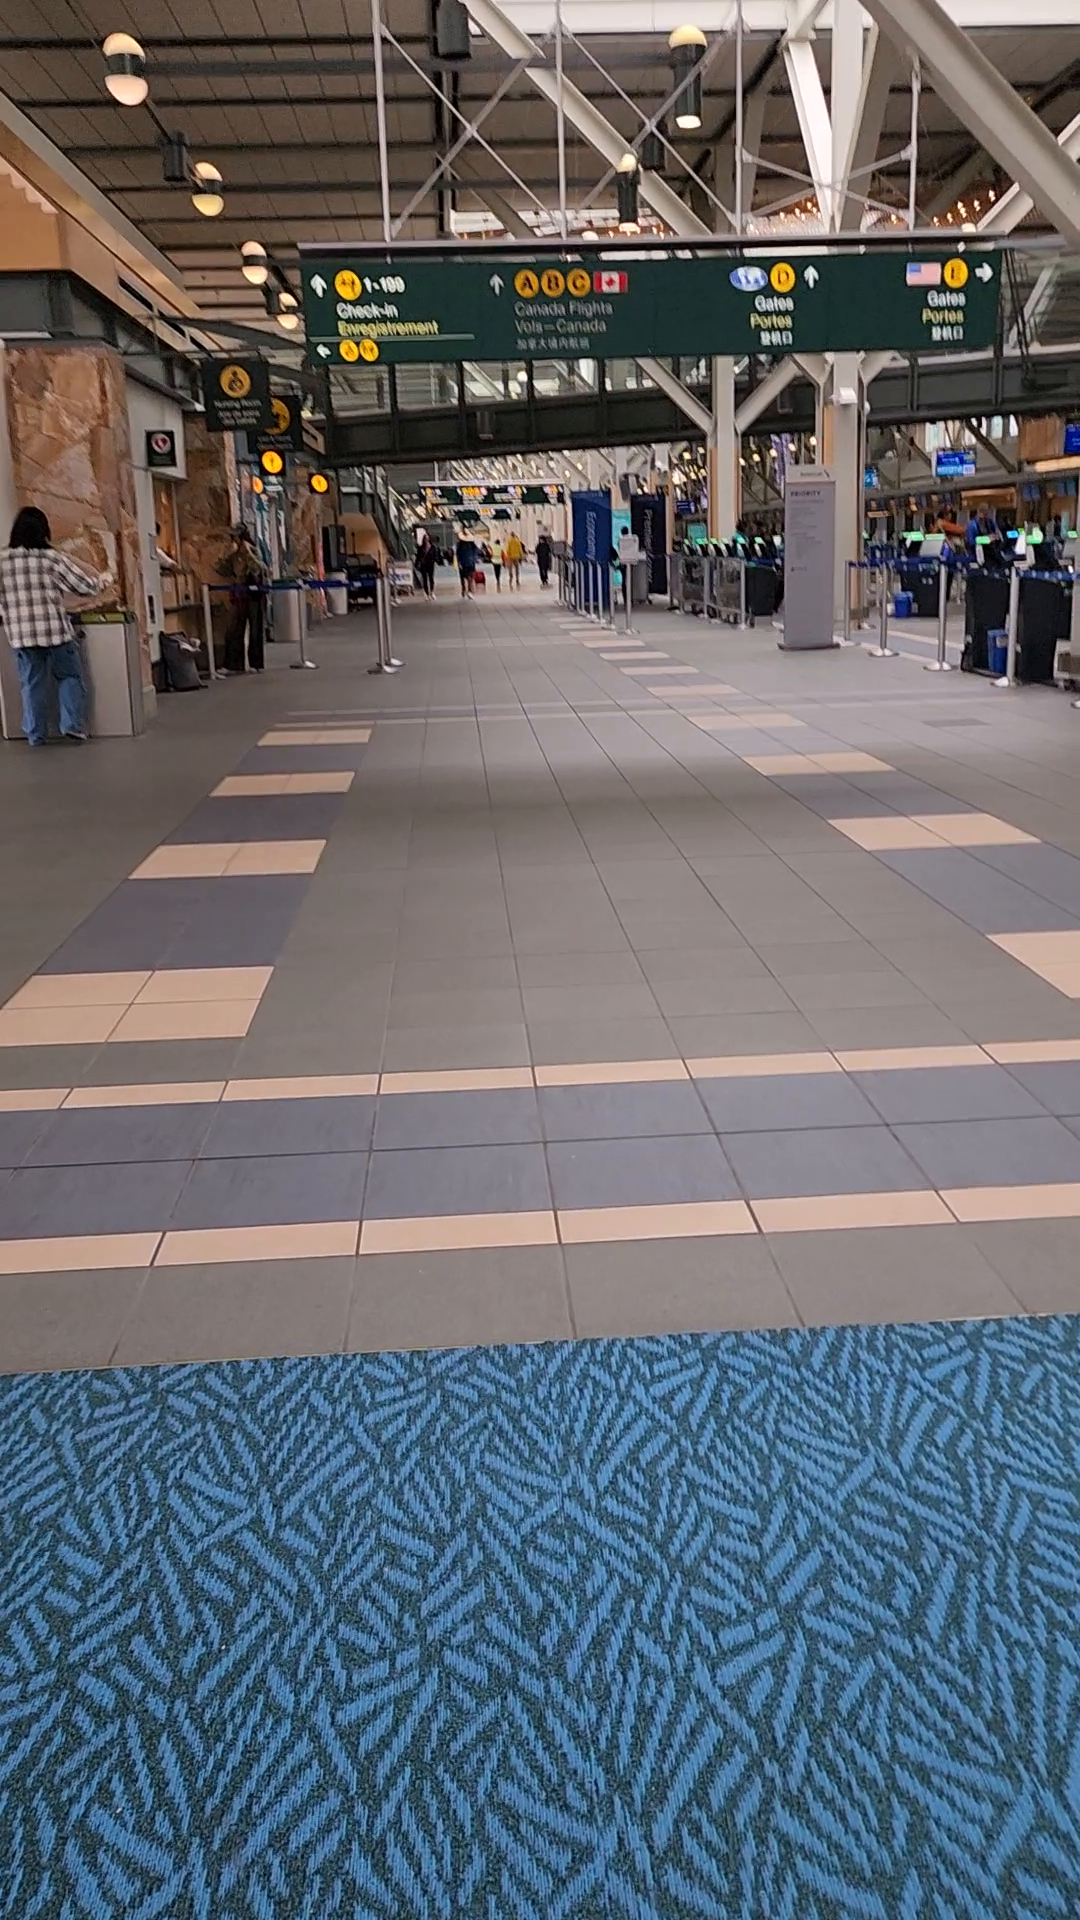Defect: (506, 261, 640, 301)
Stain: (32, 1106, 277, 1236)
